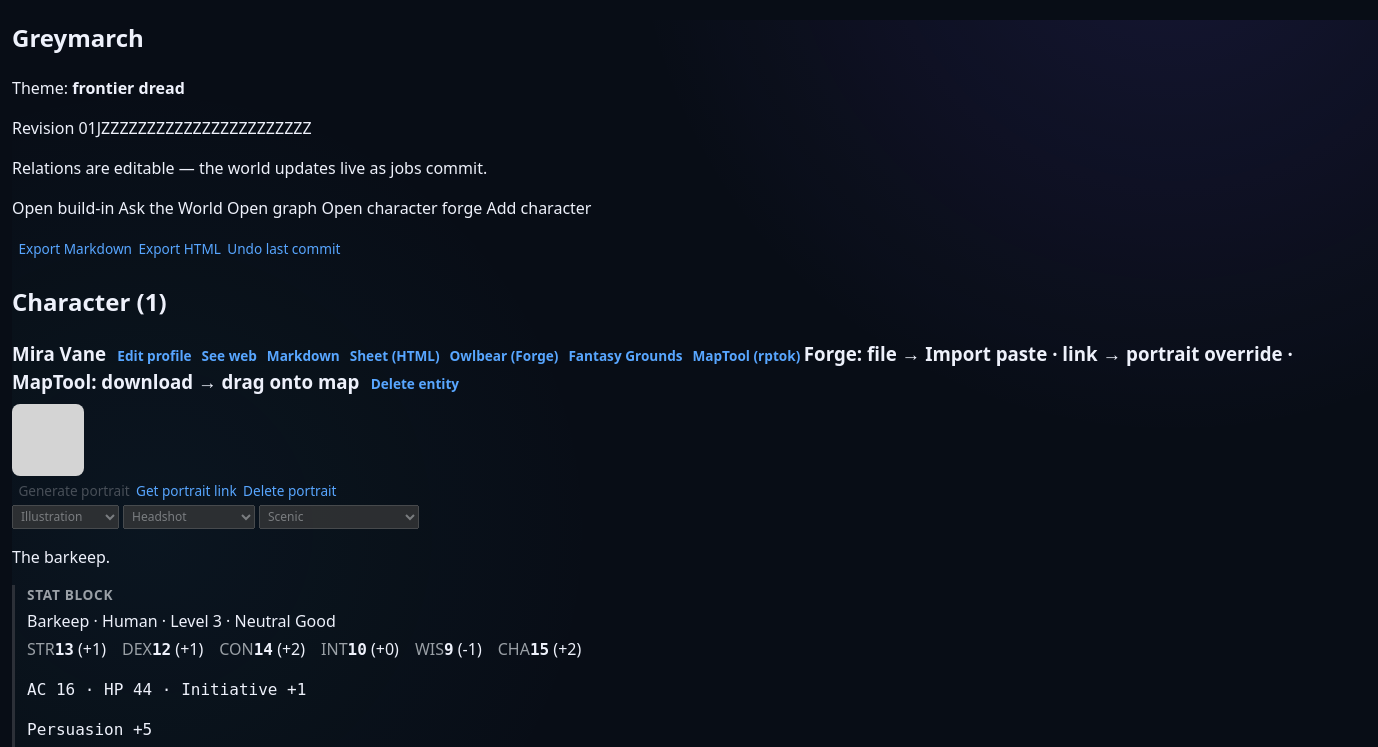
Scenario: WorldView › portrait link: a mint failure renders the card error, never the field
The width and height of the screenshot is (1378, 747).
Click the button "Get portrait link" at (186, 492), box x1=136 y1=481 x2=237 y2=502
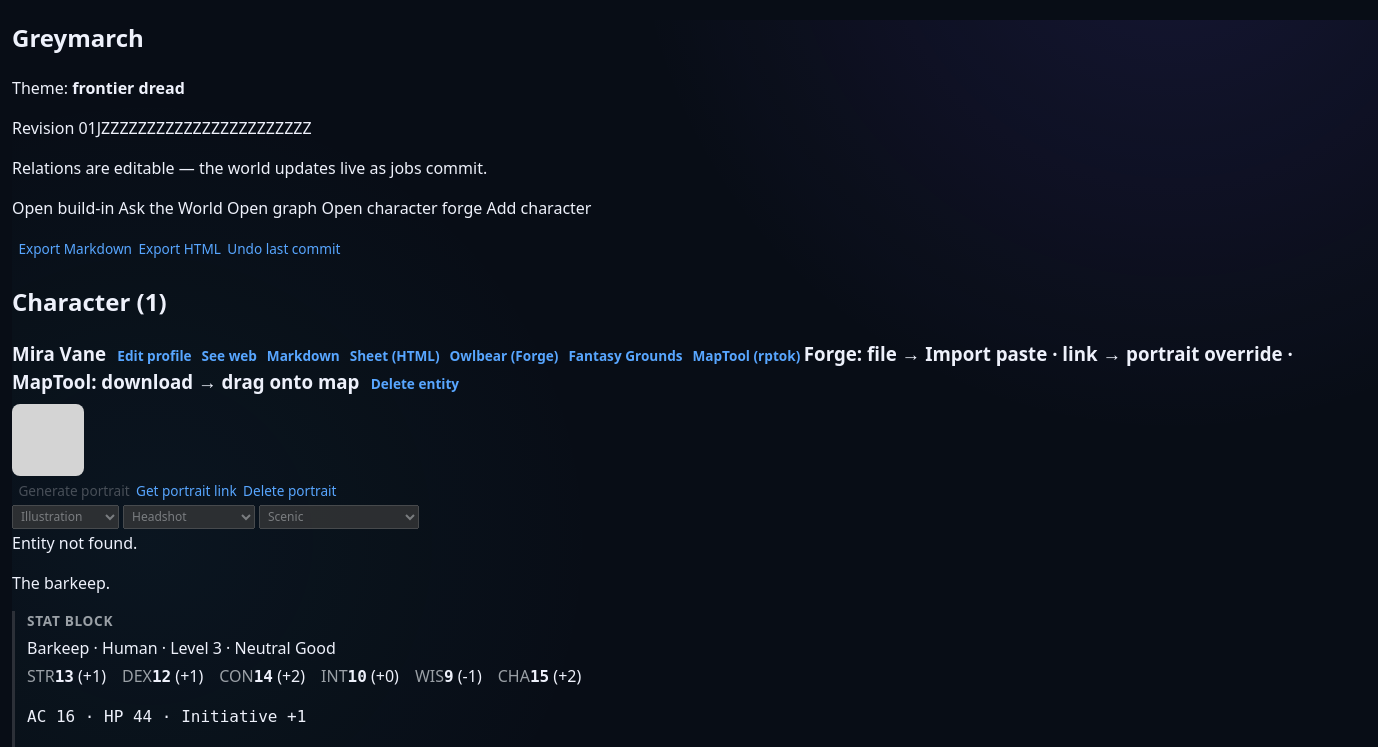
expect the text "Entity not found." is shown: met, box x1=12 y1=532 x2=137 y2=554
